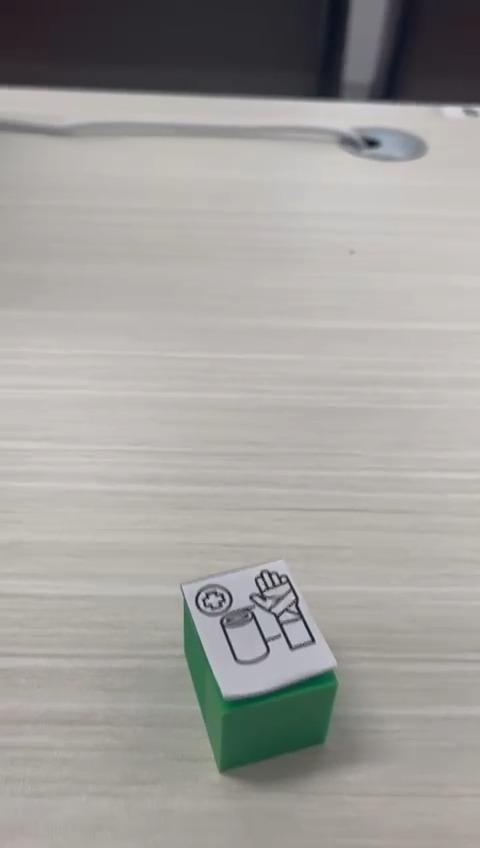Bandages: (179, 559, 336, 775)
